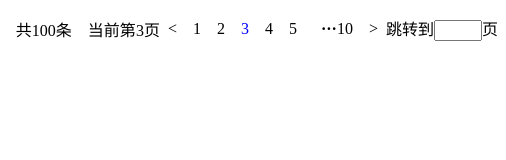
Test: mount Pagination › 分页中input输入页码跳转事件：跳转第2页
In the number field: (458, 30) [434,20,482,41], type "2"
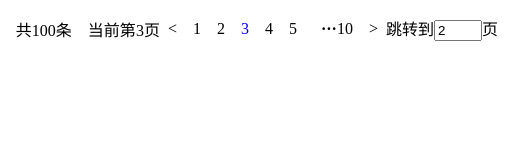
Press Enter in the number field, box [434,20,482,41]
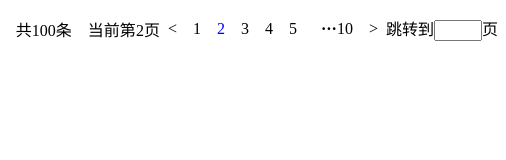
Now the text "当前第2页" is shown, box [88,16,160,40]
